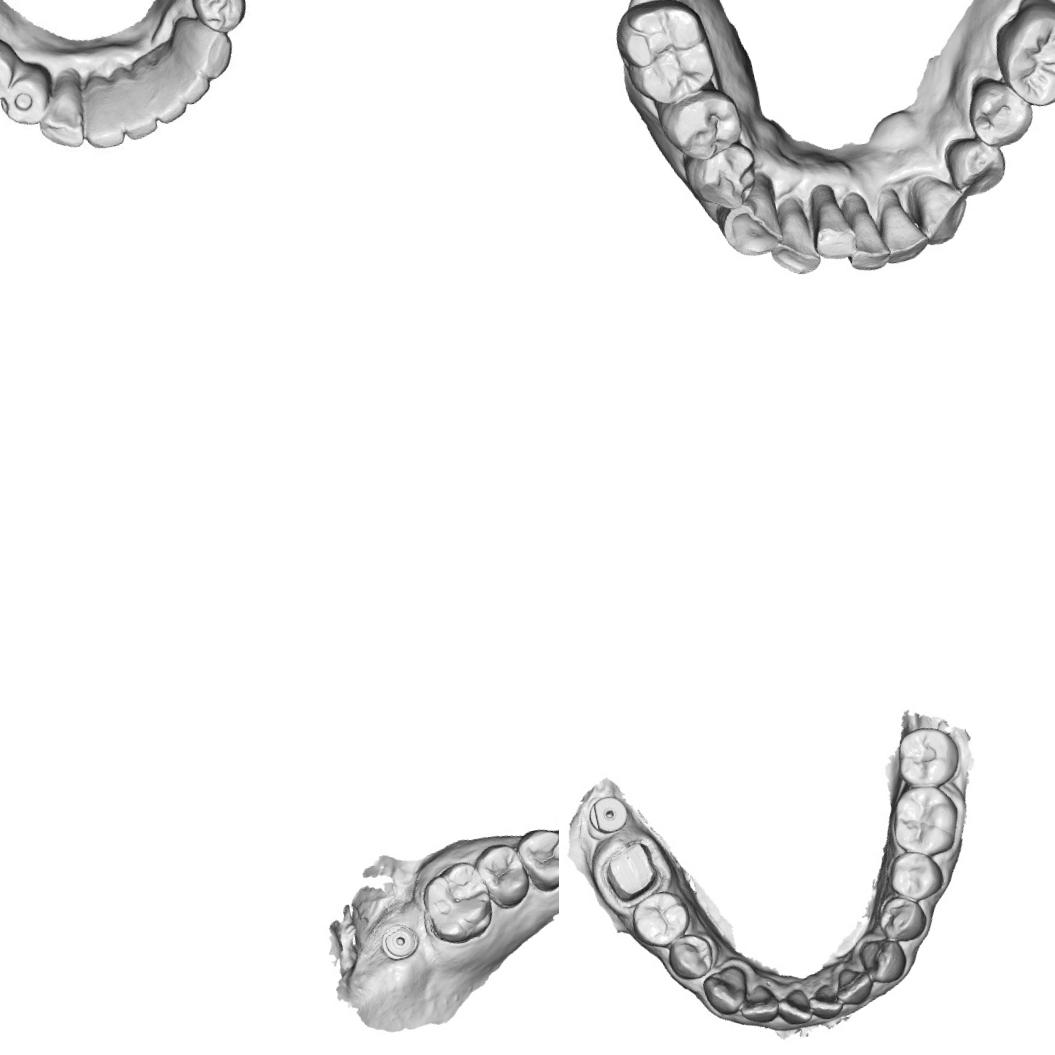canine: (716, 182, 788, 265), (905, 165, 974, 250), (170, 6, 242, 85), (30, 74, 93, 156), (856, 932, 912, 989), (699, 962, 753, 1019)
crown: (594, 834, 668, 912)
implant: (584, 791, 632, 838), (376, 919, 423, 964)
incisor: (764, 204, 826, 284), (872, 189, 930, 267), (77, 72, 132, 154), (837, 200, 894, 276), (110, 65, 162, 144), (154, 35, 210, 107), (805, 188, 858, 264), (136, 50, 187, 122), (734, 980, 782, 1028), (830, 962, 877, 1008), (773, 985, 814, 1028), (804, 980, 844, 1023)
molar: (606, 0, 719, 112), (983, 0, 1055, 115), (414, 857, 499, 950), (884, 778, 966, 864), (890, 720, 966, 795)
premolar: (660, 86, 751, 168), (960, 70, 1043, 156), (681, 141, 766, 218), (940, 128, 1013, 202), (472, 838, 534, 913), (626, 886, 694, 952), (882, 845, 947, 906), (513, 823, 559, 896), (874, 890, 931, 947), (664, 928, 718, 984), (0, 73, 53, 128), (196, 0, 251, 30), (0, 43, 18, 102)
